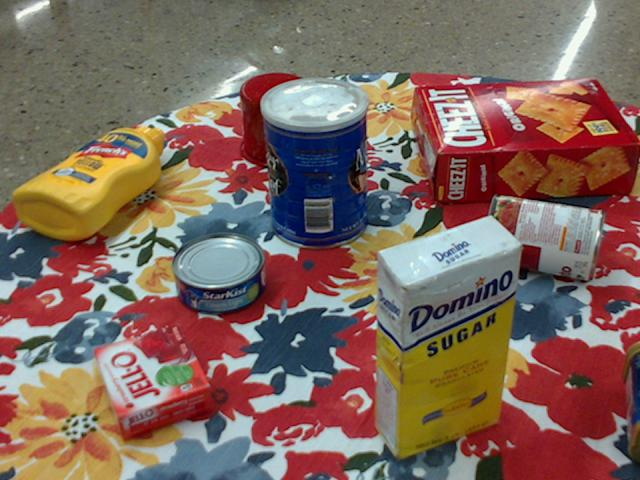cracker_box: (415, 80, 639, 204)
gelatin_box: (95, 327, 213, 444)
master_chef_can: (261, 76, 369, 249)
mug: (240, 72, 334, 168)
mustard_bottle: (12, 126, 164, 239)
potted_meat_can: (625, 339, 639, 457)
sugar_box: (376, 213, 522, 462)
tomato_soup_can: (485, 193, 606, 278)
tuna_fish_can: (170, 234, 265, 315)
